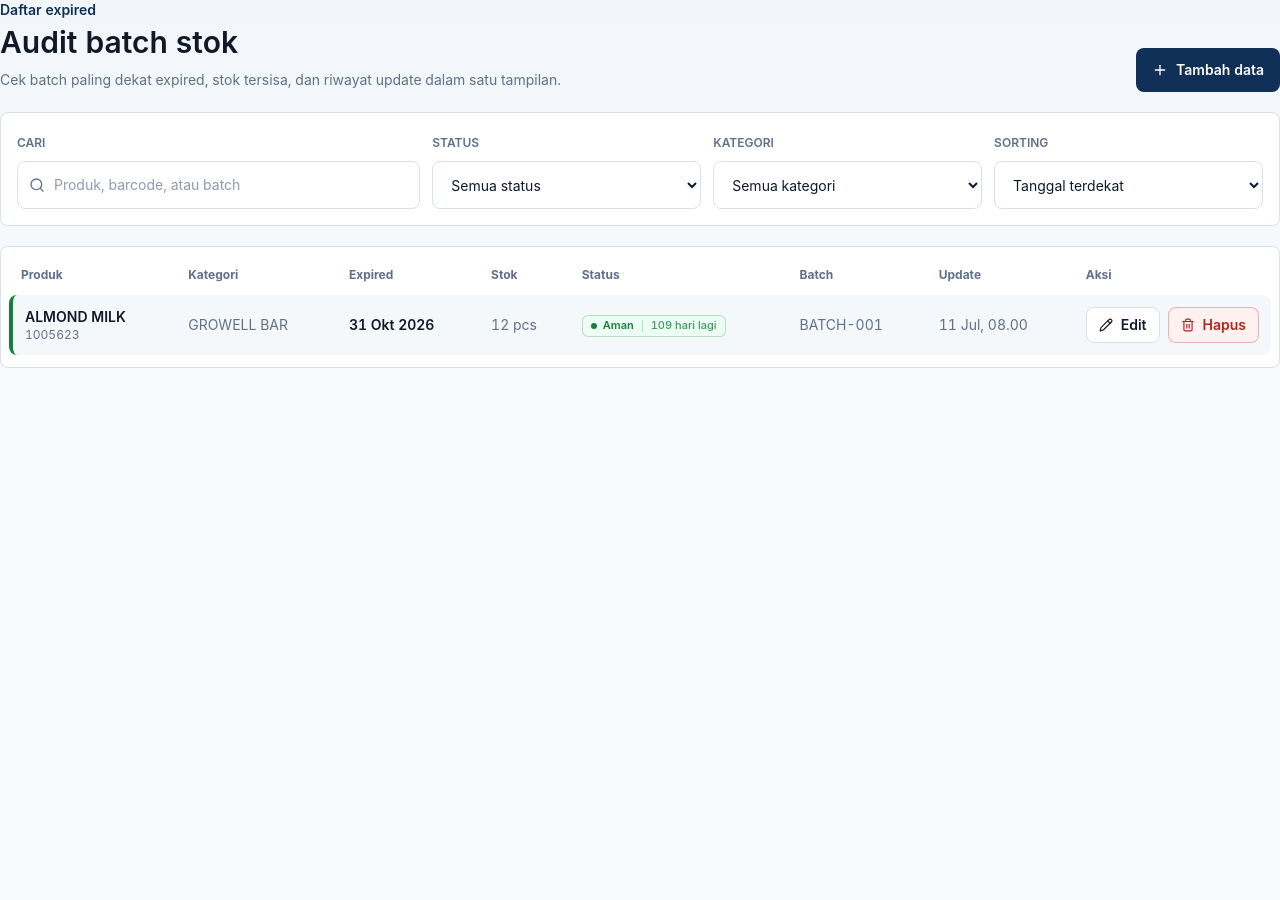
Scenario: ExpiryList › user dapat menghapus batch dengan konfirmasi
Click the button "Hapus" at (1213, 325), box [1168,307,1259,343]
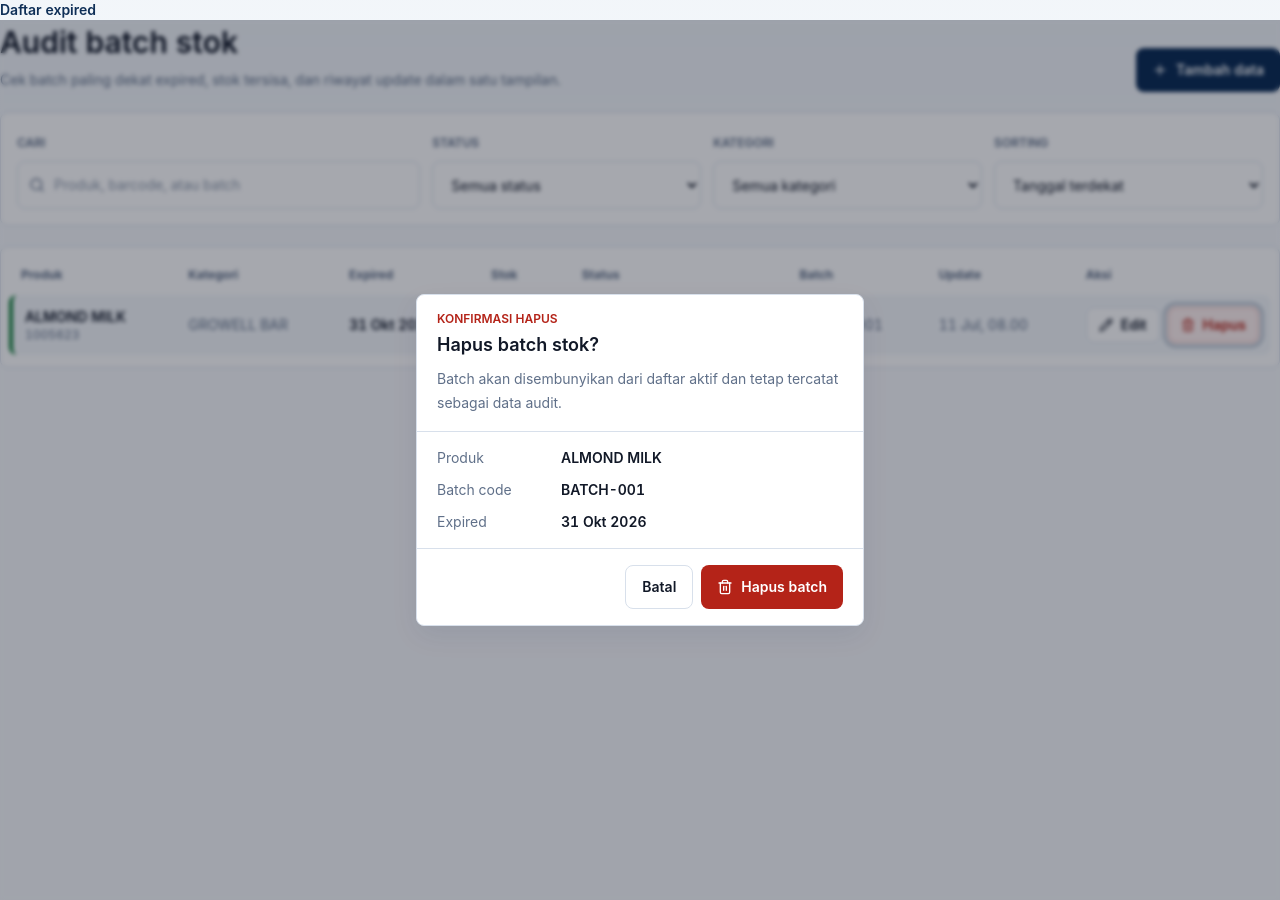
Check: the text "ALMOND MILK" is shown, box [561,449,662,466]
Check: the text "BATCH-001" is shown, box [561,481,645,498]
Check: the text "31 Okt 2026" is shown, box [561,513,646,530]
Click the button "Hapus batch" at (772, 587), box [701,565,843,609]
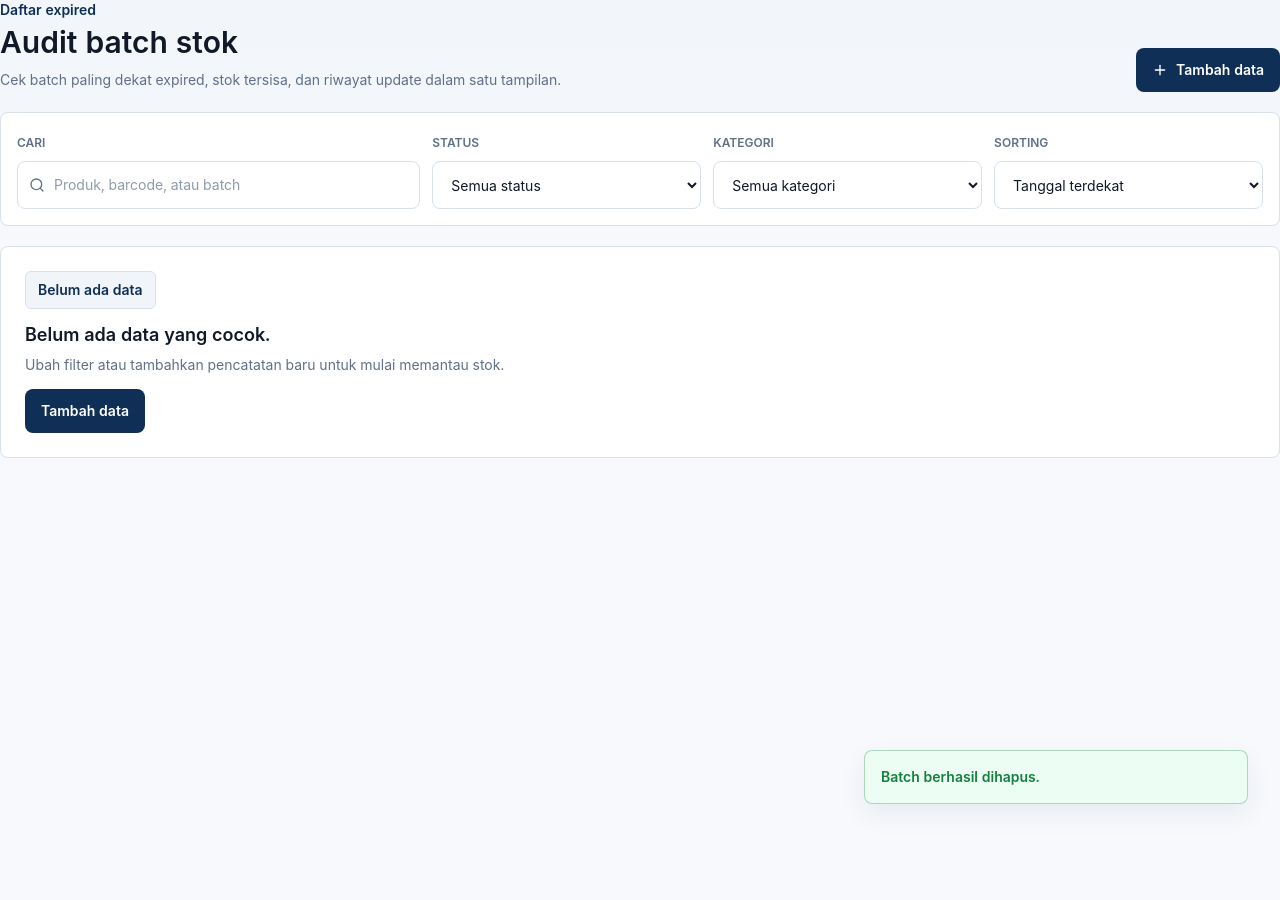
Check: the text "Batch berhasil dihapus." is shown, box [864,750,1248,804]
Check: the dialog is gone
